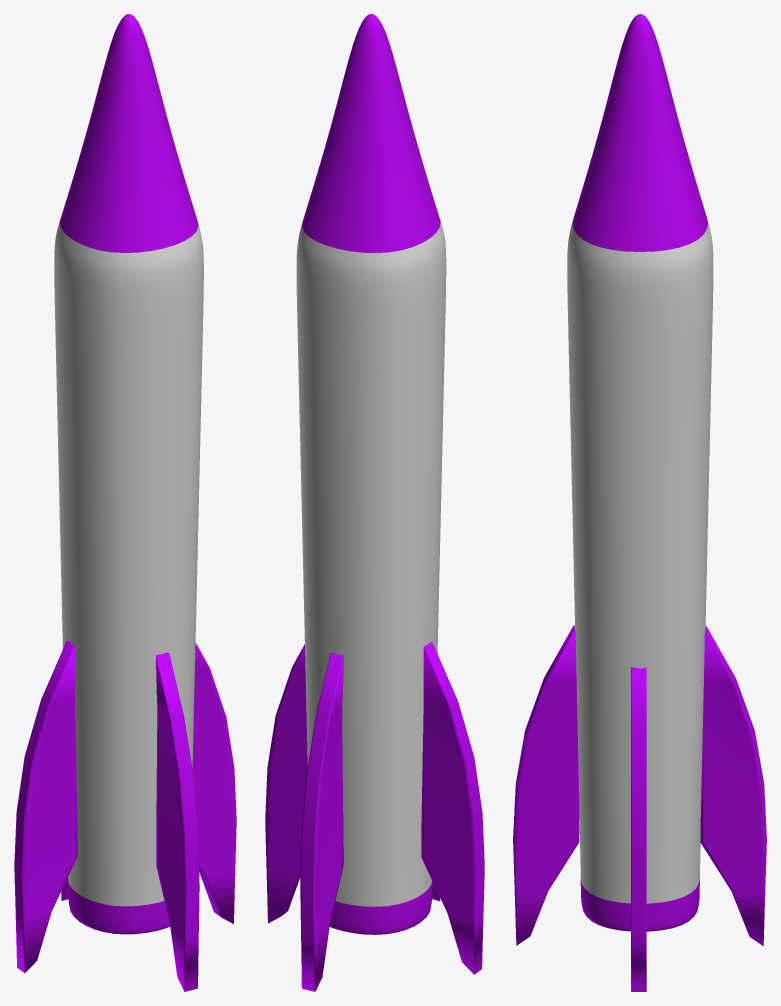
Rendered from rocket.glb.
3 renders of one model, left to right at view 1: azimuth 30°, elevation 25°; view 2: azimuth 150°, elevation 25°; view 3: azimuth 270°, elevation 25°, orthographic.
Visible parts, largest first — view 1: Body_2, Fing003_6, Fing_3, Fing001_4; view 2: Body_2, Fing003_6, Fing002_5, Fing001_4; view 3: Body_2, Fing_3, Fing002_5, Fing001_4.
Part boxes in pixels (left/top/right/bottom): Body_2: left=54, top=14, right=203, bottom=934; Fing003_6: left=14, top=641, right=77, bottom=972; Fing_3: left=156, top=652, right=199, bottom=991; Fing001_4: left=192, top=643, right=236, bottom=923; Body_2: left=296, top=14, right=446, bottom=934; Fing003_6: left=421, top=642, right=484, bottom=974; Fing002_5: left=300, top=652, right=343, bottom=991; Fing001_4: left=265, top=644, right=307, bottom=923; Body_2: left=567, top=14, right=713, bottom=931; Fing_3: left=513, top=625, right=579, bottom=945; Fing002_5: left=700, top=626, right=766, bottom=945; Fing001_4: left=631, top=667, right=646, bottom=991.
Size of the model in its own units: 0.7736 by 3.23 by 0.7993.
